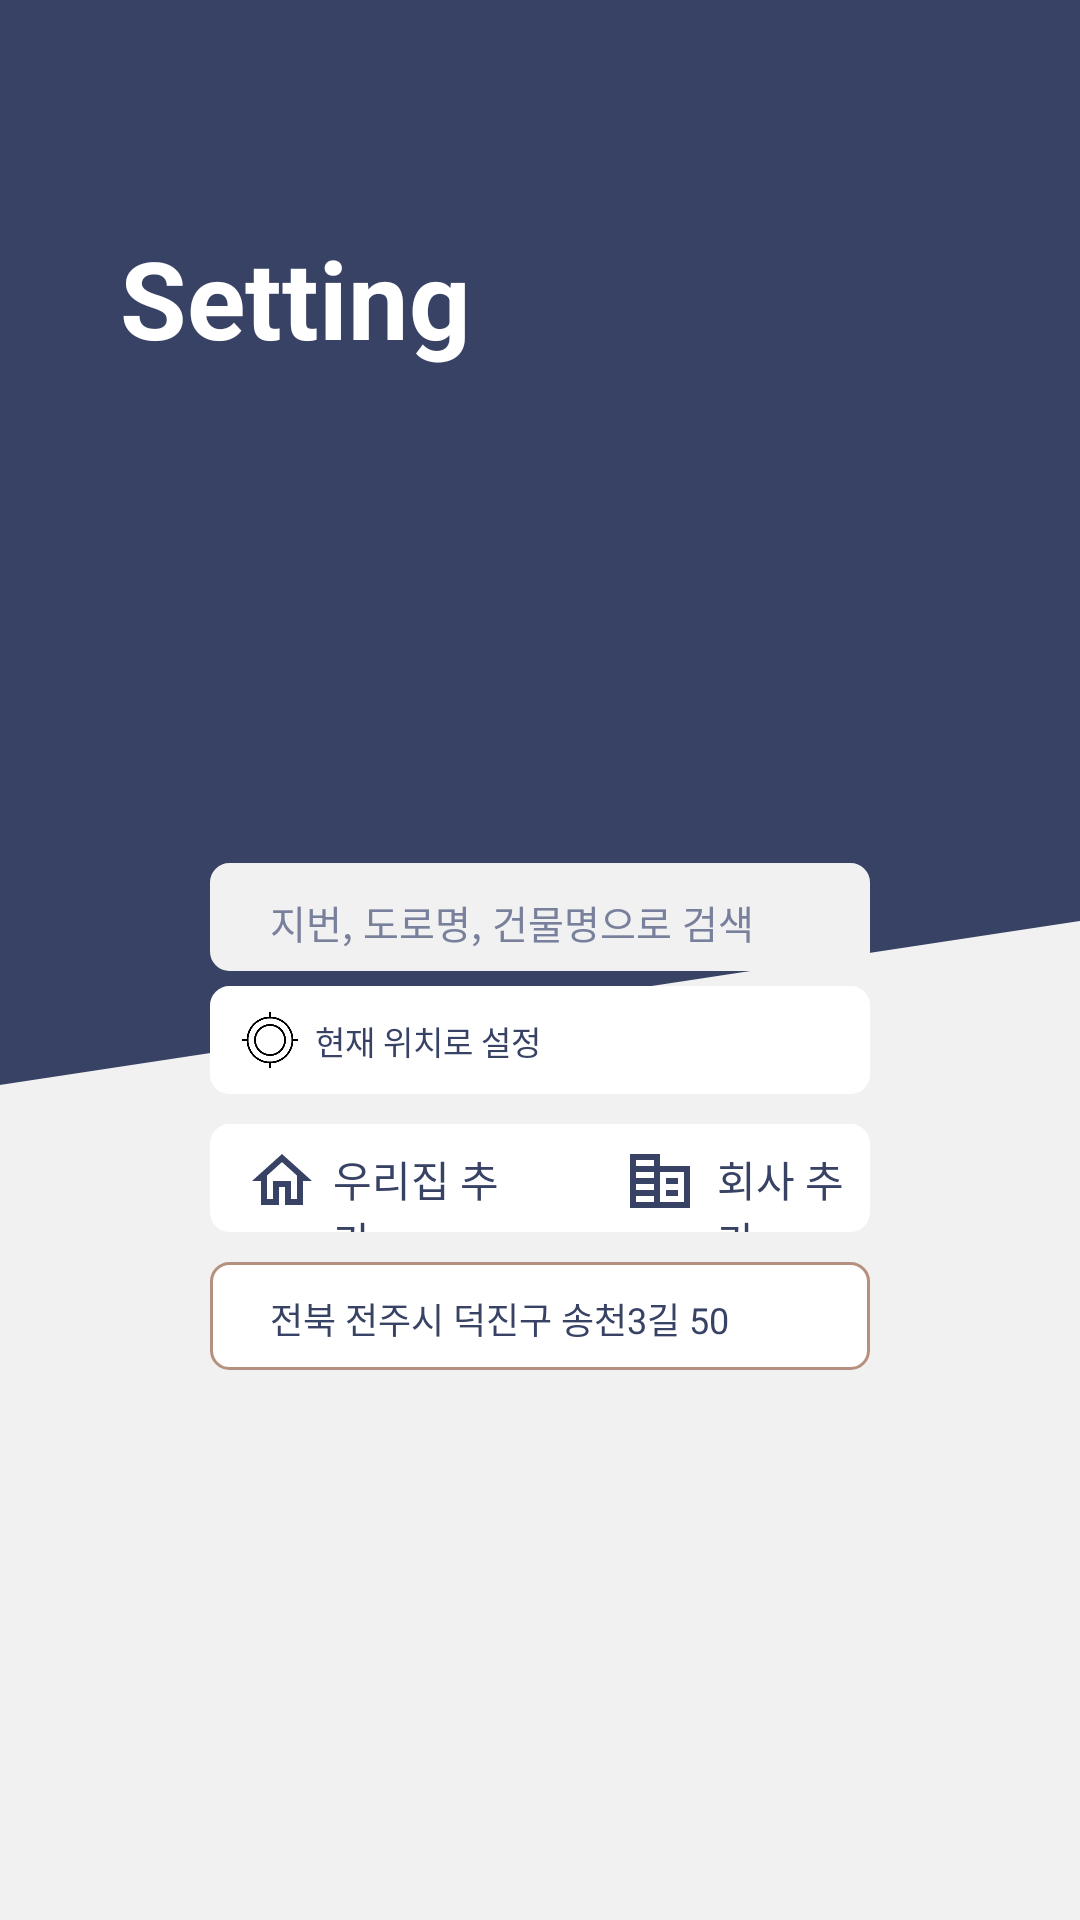

Icon bounding boxes for this 1080*1920 phone screenshot, format [x1=x1, y1=y1, x2=x2, y2=y2]:
corporate fare: [x1=630, y1=1154, x2=690, y2=1208]
home: [x1=252, y1=1154, x2=312, y2=1205]
target: [x1=242, y1=1012, x2=298, y2=1068]
